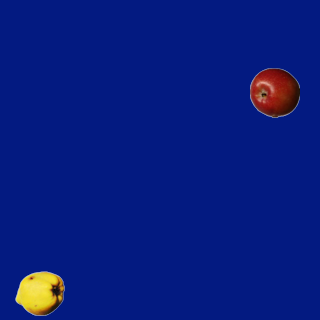Apple Braeburn: (249, 67, 299, 117)
Quince: (14, 268, 64, 318)
